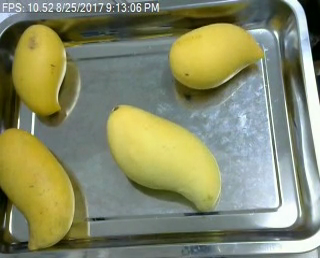Mango: (106, 101, 223, 213), (0, 126, 77, 250), (166, 21, 262, 93), (8, 22, 67, 116)
